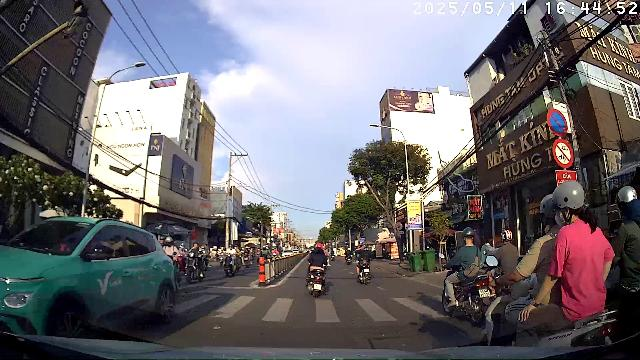131a-cam-do-xe: (547, 108, 568, 137)
